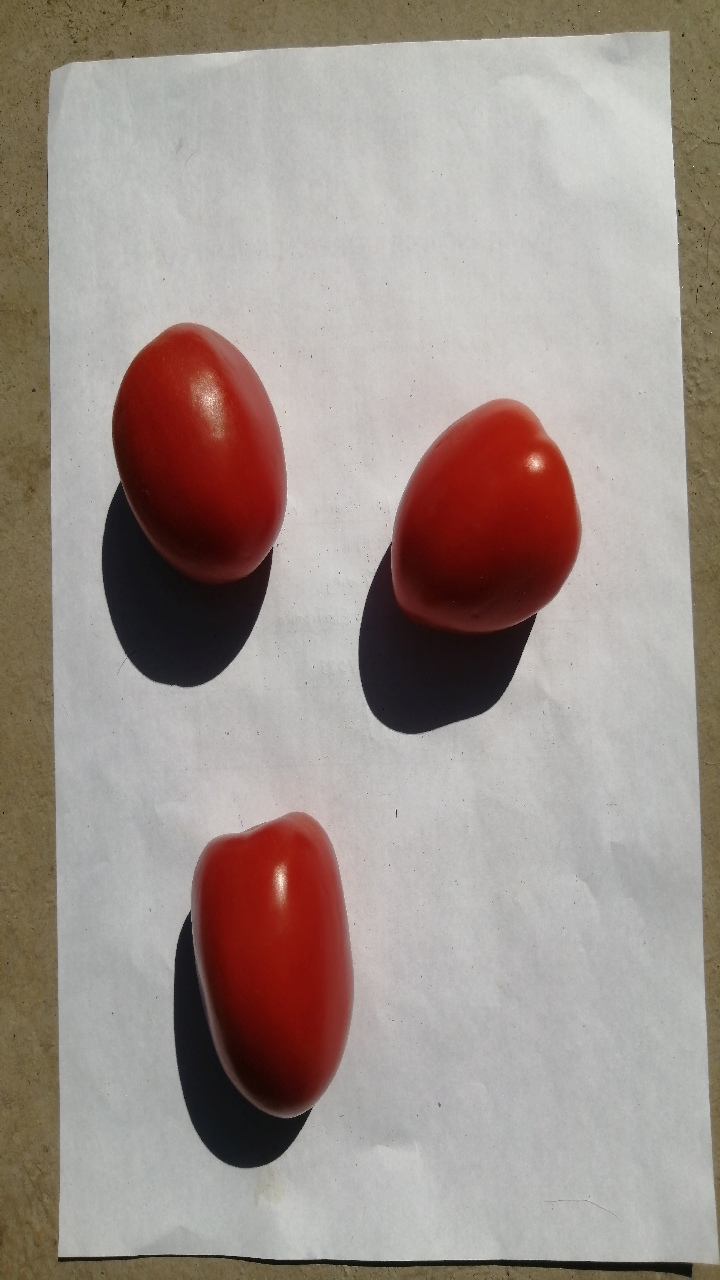tomateRojo: (91, 300, 320, 609), (149, 791, 360, 1126), (368, 372, 591, 649)
